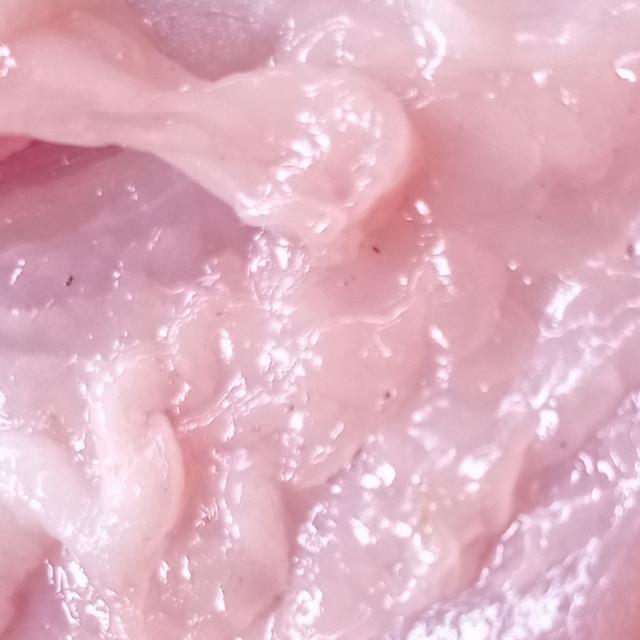pork: (46, 51, 607, 600)
